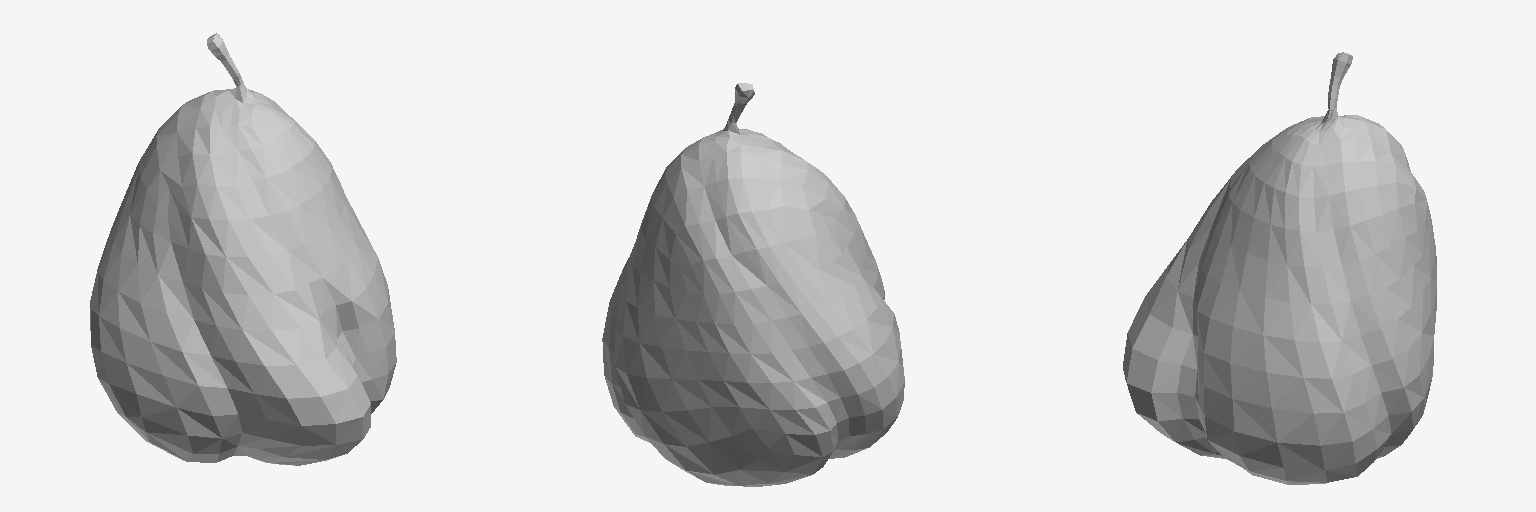
The model's file is fantasy fruit.OBJ.
The picture shows the model from 3 angles: view 1: azimuth 30°, elevation 25°; view 2: azimuth 150°, elevation 25°; view 3: azimuth 270°, elevation 25°; orthographic projection.
Parts seen in each view (by area): view 1: Group1; view 2: Group1; view 3: Group1.
Boxes of the visible parts, box(x1,y1,x2,y2) form: Group1: box(90, 33, 396, 465); Group1: box(602, 83, 904, 486); Group1: box(1123, 52, 1436, 484).
Bounding box in the file's own units: 2.34 × 3.23 × 2.32.